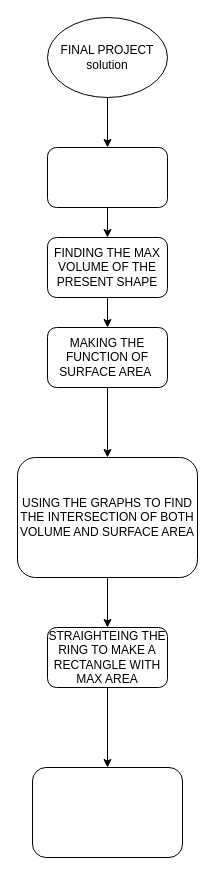
This 215x875 diagram has some shape labels left out. The shapes that lost their labels are listed below. From the top down, each one's box as (x1, y1, x2, y2) in pixels, then its label:
(46, 146, 168, 208): MAKING THE SHAPE USING THE AVAILABLE SHEETS
(32, 766, 182, 858): COMBING THE ABOVE STATED METHODS TO MAKE A PROGRAM
